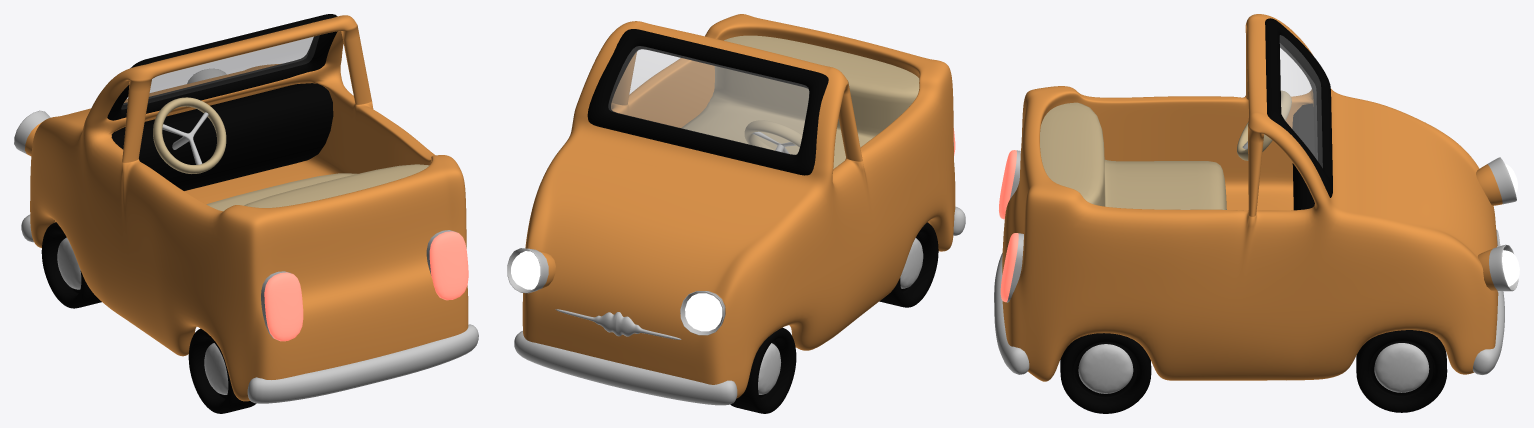
Rendered from cute_car.glb.
The picture shows the model from 3 angles, left to right: view 1: azimuth 30°, elevation 25°; view 2: azimuth 150°, elevation 25°; view 3: azimuth 270°, elevation 25°; orthographic projection. The views are drawn at different scales.
Visible parts, largest first — view 1: Cube, Cube.010, Cube.008, Cube.004, Cube.002, Cube.003, Cube.009, roue.001, roue, Circle, Cube.005, Cube.011; view 2: Cube, Cube.003, Cube.009, Cube.002, Cube.007, Cube.005, roue, roue.001, Cube.006, Circle; view 3: Cube, Cube.009, roue, roue.001, Cube.002, Cube.003, Cube.005, Cube.004, Cube.010, Cube.008, Cube.007, Circle.
Part boxes in pixels (left/top/right/bottom): Cube: left=30, top=15, right=468, bottom=401; Cube.010: left=111, top=83, right=333, bottom=190; Cube.008: left=247, top=324, right=478, bottom=403; Cube.004: left=261, top=230, right=468, bottom=341; Cube.002: left=107, top=14, right=337, bottom=120; Cube.003: left=121, top=36, right=318, bottom=108; Cube.009: left=206, top=164, right=429, bottom=211; roue.001: left=188, top=328, right=256, bottom=413; roue: left=41, top=222, right=101, bottom=308; Circle: left=153, top=97, right=226, bottom=173; Cube.005: left=14, top=68, right=226, bottom=155; Cube.011: left=162, top=112, right=208, bottom=164; Cube: left=522, top=14, right=955, bottom=398; Cube.003: left=608, top=46, right=809, bottom=154; Cube.009: left=681, top=35, right=919, bottom=168; Cube.002: left=587, top=29, right=828, bottom=175; Cube.007: left=514, top=331, right=737, bottom=405; Cube.005: left=507, top=248, right=725, bottom=335; roue: left=730, top=327, right=796, bottom=413; roue.001: left=879, top=222, right=938, bottom=307; Cube.006: left=555, top=309, right=681, bottom=339; Circle: left=744, top=120, right=802, bottom=150; Cube: left=1002, top=14, right=1498, bottom=381; Cube.009: left=1040, top=102, right=1226, bottom=209; roue: left=1356, top=330, right=1447, bottom=412; roue.001: left=1060, top=333, right=1151, bottom=413; Cube.002: left=1265, top=18, right=1332, bottom=197; Cube.003: left=1280, top=35, right=1322, bottom=167; Cube.005: left=1476, top=157, right=1519, bottom=291; Cube.004: left=999, top=150, right=1023, bottom=302; Cube.010: left=1292, top=103, right=1314, bottom=210; Cube.008: left=994, top=253, right=1029, bottom=374; Cube.007: left=1472, top=291, right=1504, bottom=374; Circle: left=1237, top=90, right=1291, bottom=160.
Size of the model in its own units: 0.3084 by 0.328 by 0.5299.
